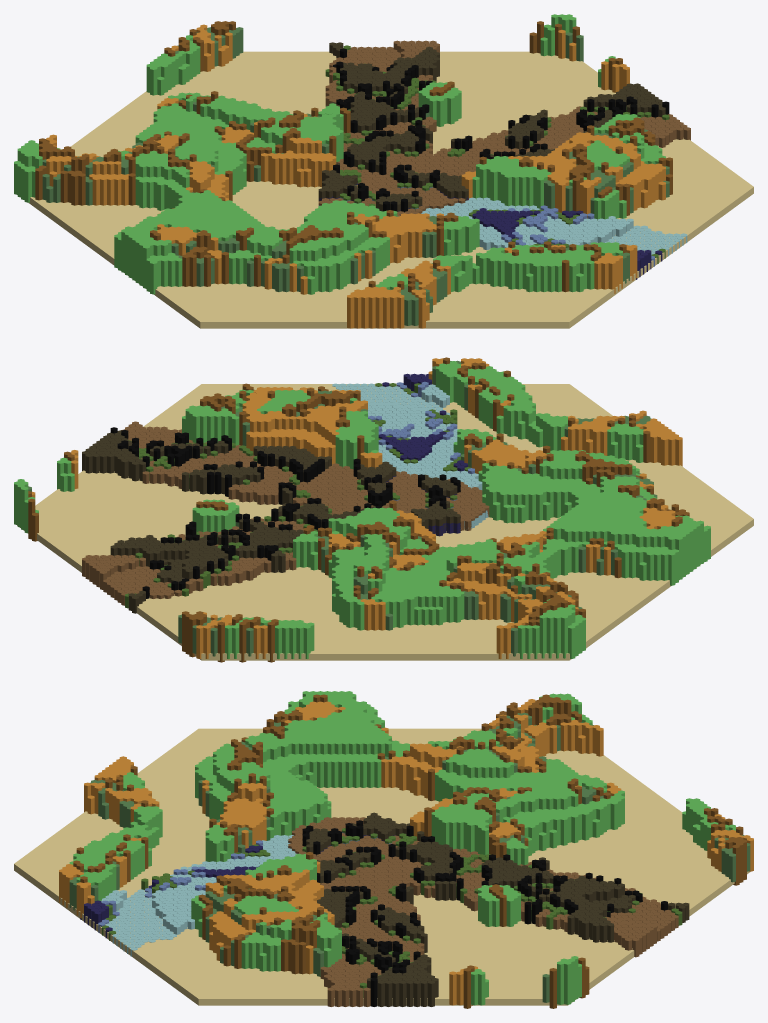
Rendered from 0026_tile_1222110.fbx.
3 views of the same model, one above another, from view 1: azimuth 30°, elevation 25°; view 2: azimuth 150°, elevation 25°; view 3: azimuth 270°, elevation 25° (orthographic).
Parts seen in each view (by area): view 1: Plane; view 2: Plane; view 3: Plane.
Boxes of the visible parts, x1,y1,x2,y2 form: Plane: (14, 14, 753, 328); Plane: (14, 357, 753, 662); Plane: (14, 691, 753, 1008).
Size of the model in its own units: 1008 by 84.66 by 1152.
